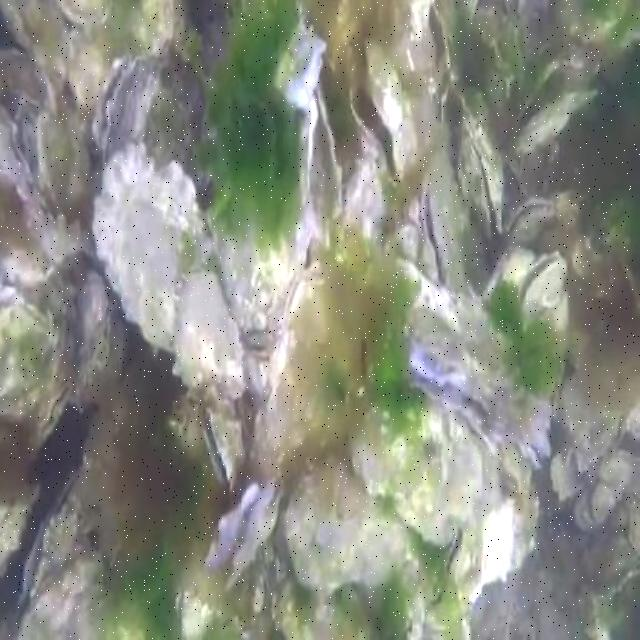Oyster-Closed: (94, 141, 214, 352), (354, 407, 482, 545), (171, 267, 245, 395), (0, 288, 60, 419), (474, 487, 539, 585), (425, 527, 482, 629), (74, 268, 108, 409), (277, 19, 326, 109), (38, 116, 91, 199), (0, 475, 38, 571), (484, 246, 536, 302), (559, 0, 630, 41), (32, 381, 74, 448), (29, 209, 80, 264), (129, 0, 174, 56), (175, 586, 221, 638), (70, 43, 106, 105), (550, 451, 587, 500), (499, 443, 531, 495), (58, 0, 112, 29), (249, 562, 271, 614), (593, 484, 616, 518)
Oyster-Open: (266, 263, 332, 448), (350, 37, 421, 186), (508, 48, 597, 155), (205, 474, 281, 595), (22, 474, 90, 601), (421, 149, 466, 288), (456, 118, 506, 236), (301, 82, 343, 220), (411, 308, 470, 389), (93, 53, 140, 154), (201, 410, 248, 491), (518, 251, 569, 318), (503, 196, 557, 248), (426, 0, 451, 76)
